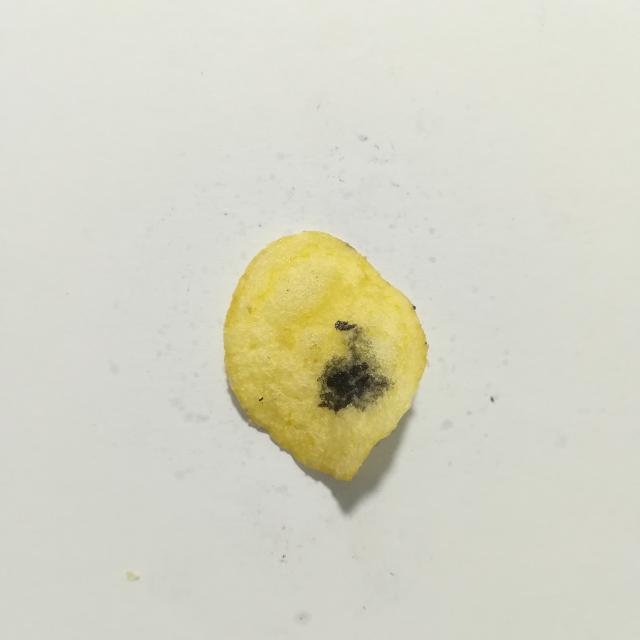chip: (224, 231, 428, 480)
damaged: (319, 322, 392, 412)
